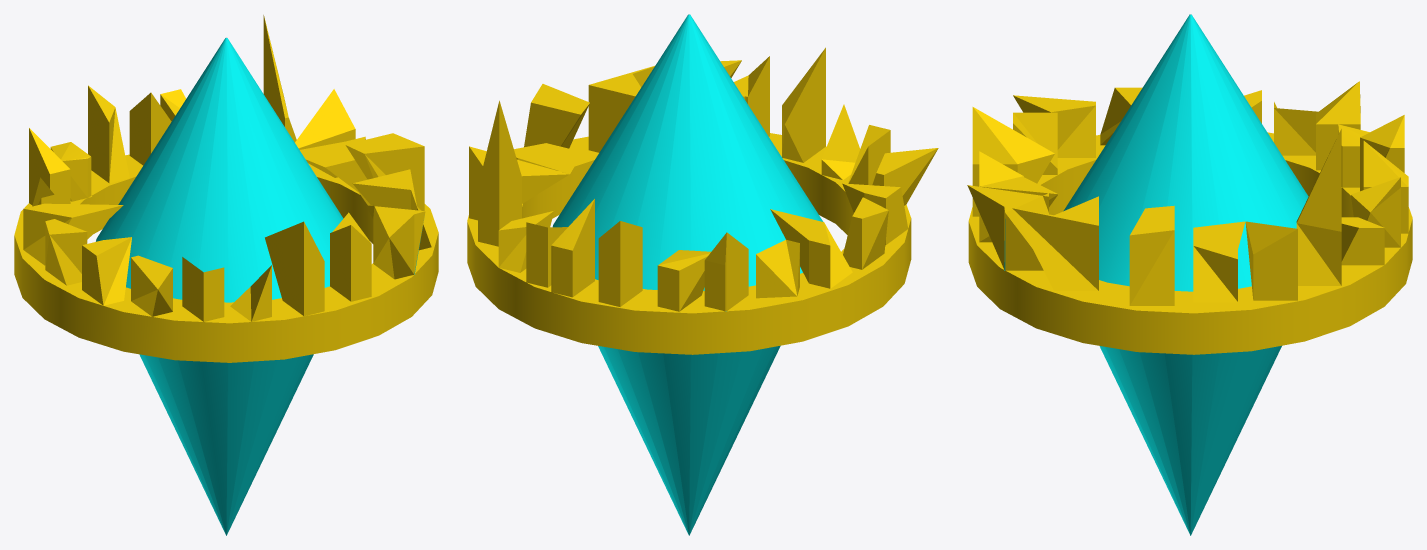
The picture shows the model from 3 angles, left to right: view 1: azimuth 30°, elevation 25°; view 2: azimuth 150°, elevation 25°; view 3: azimuth 270°, elevation 25°; orthographic projection. The views are drawn at different scales.
Parts seen in each view (by area): view 1: SketchUp (×14); view 2: SketchUp (×14); view 3: SketchUp (×13).
Boxes of the visible parts, left/top/right/bottom form: SketchUp (×14): left=14, top=15, right=438, bottom=535; SketchUp (×14): left=467, top=14, right=938, bottom=535; SketchUp (×13): left=967, top=14, right=1412, bottom=535.
Size of the model in its own units: 342 by 343 by 444.
